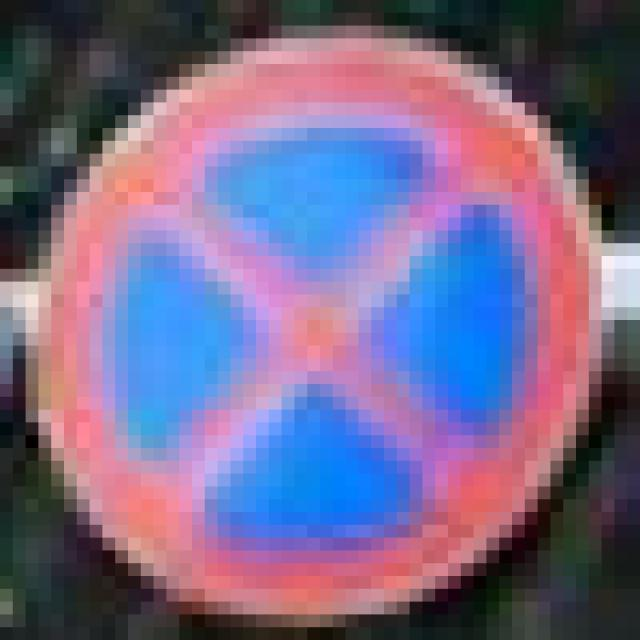no stopping or standing: (35, 32, 605, 621)
